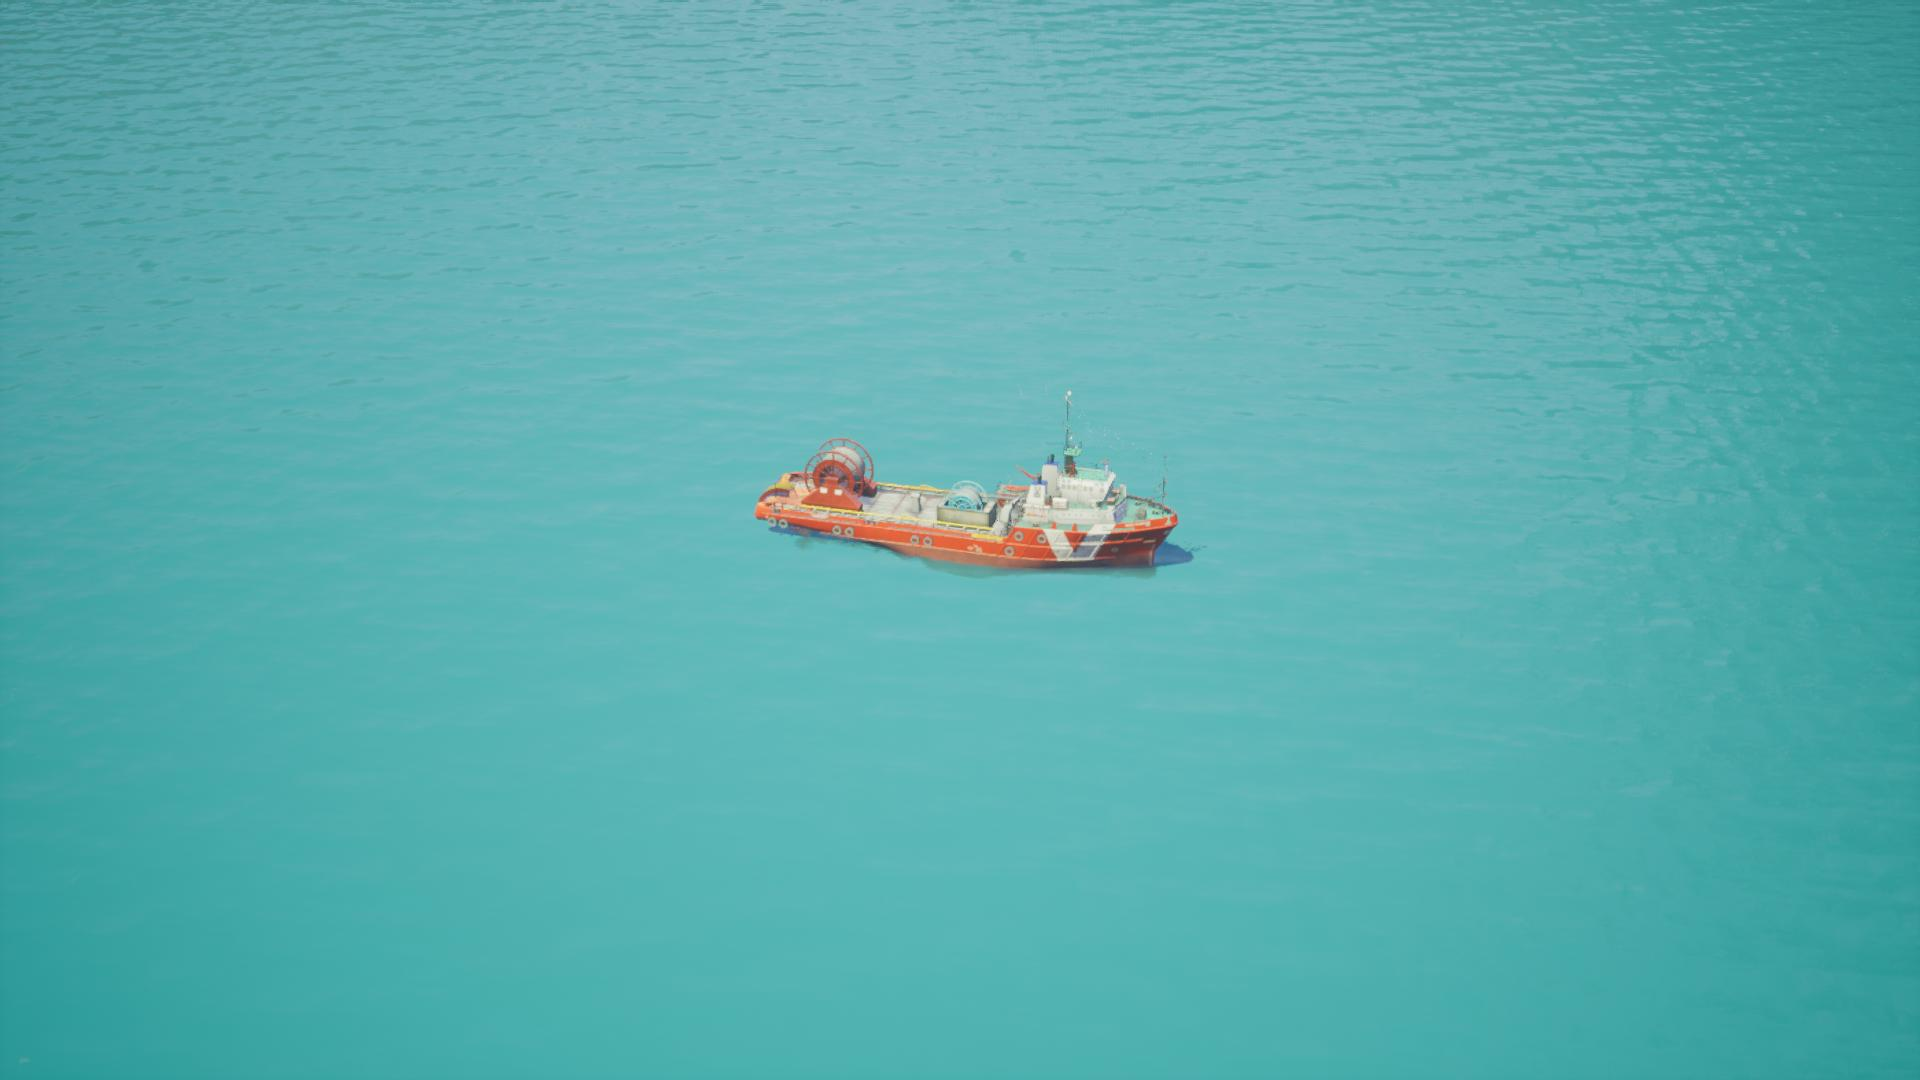Tug Boat: (750, 371, 1253, 675)
